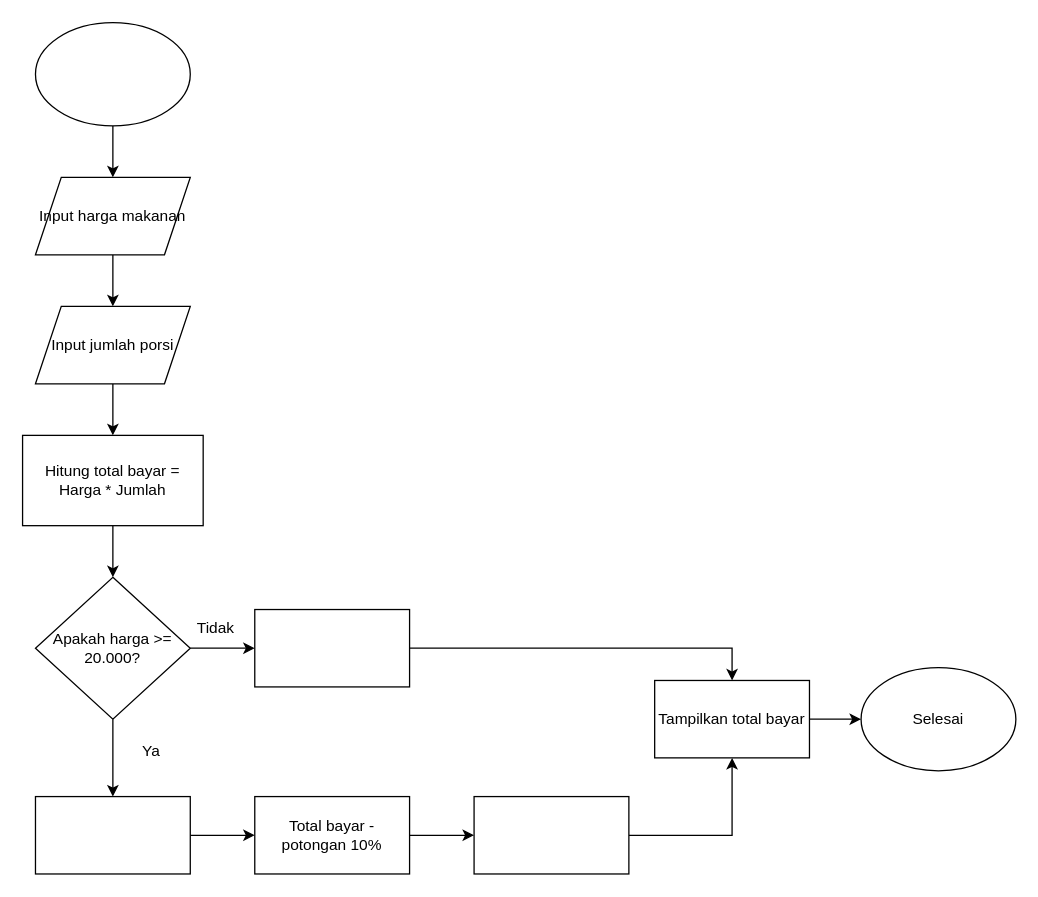
The diagram is 1038 pixels wide and 897 high, and some of its shapes have lost their labels. Each missing label, with the centre of its shape:
Hitung potongan 10%: (x=112, y=834)
Mulai: (x=112, y=73)
Tampilkan pesan mendapat diskon: (x=551, y=834)
Tampilkan pesan tidak mendapat diskon: (x=331, y=647)
